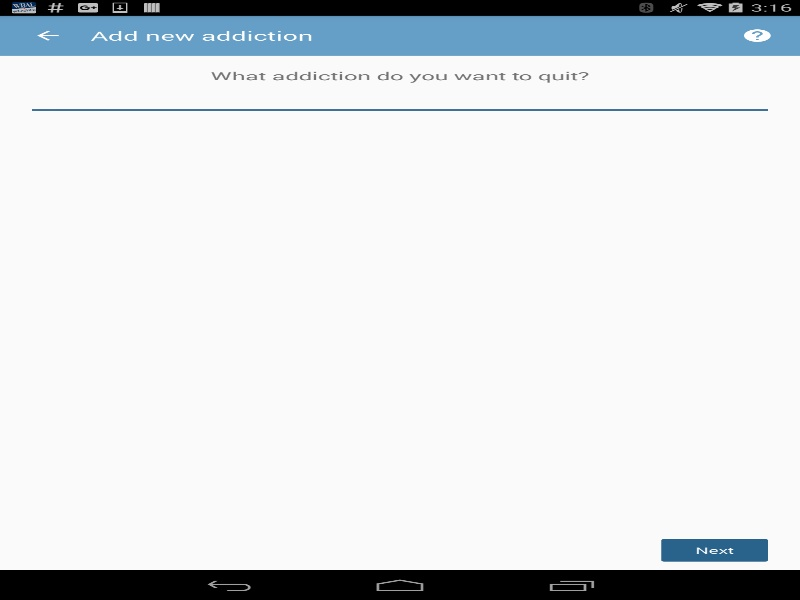Button: (656, 535, 773, 565), (10, 18, 85, 53)
Input: (26, 86, 773, 115)
